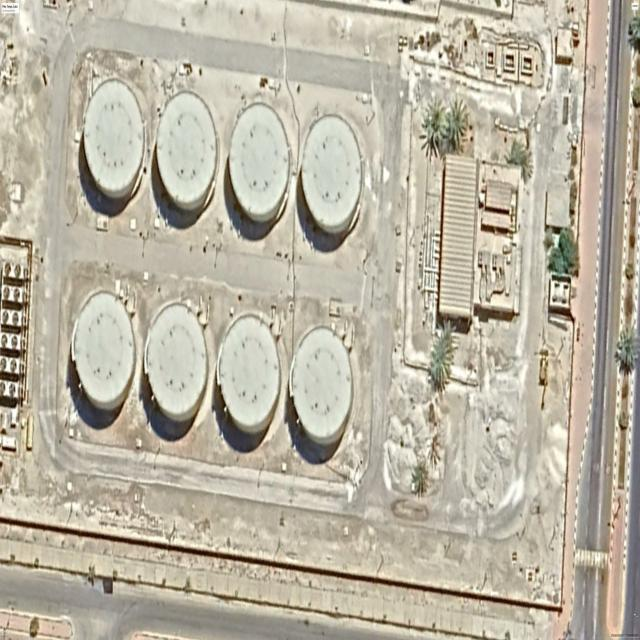Oil Rafinery: (216, 314, 281, 437), (71, 291, 136, 411), (143, 302, 208, 422), (228, 103, 291, 226), (83, 79, 145, 201), (156, 91, 218, 212), (289, 327, 353, 444), (301, 115, 362, 235)
